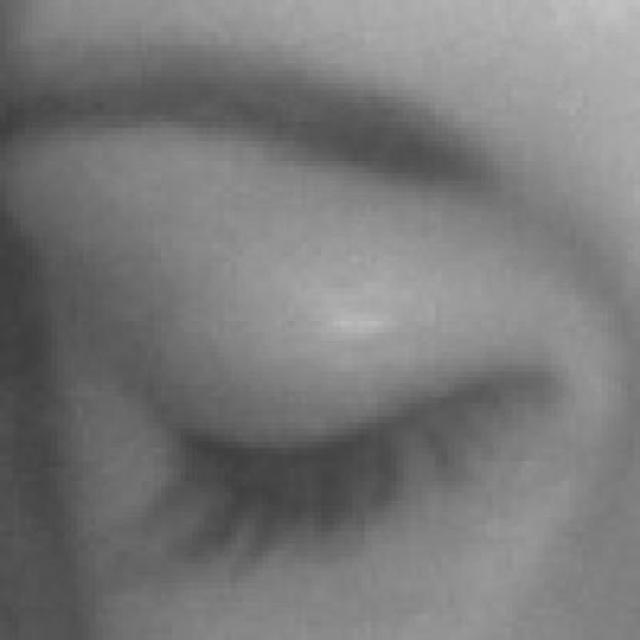drowsy: (135, 223, 570, 634)
